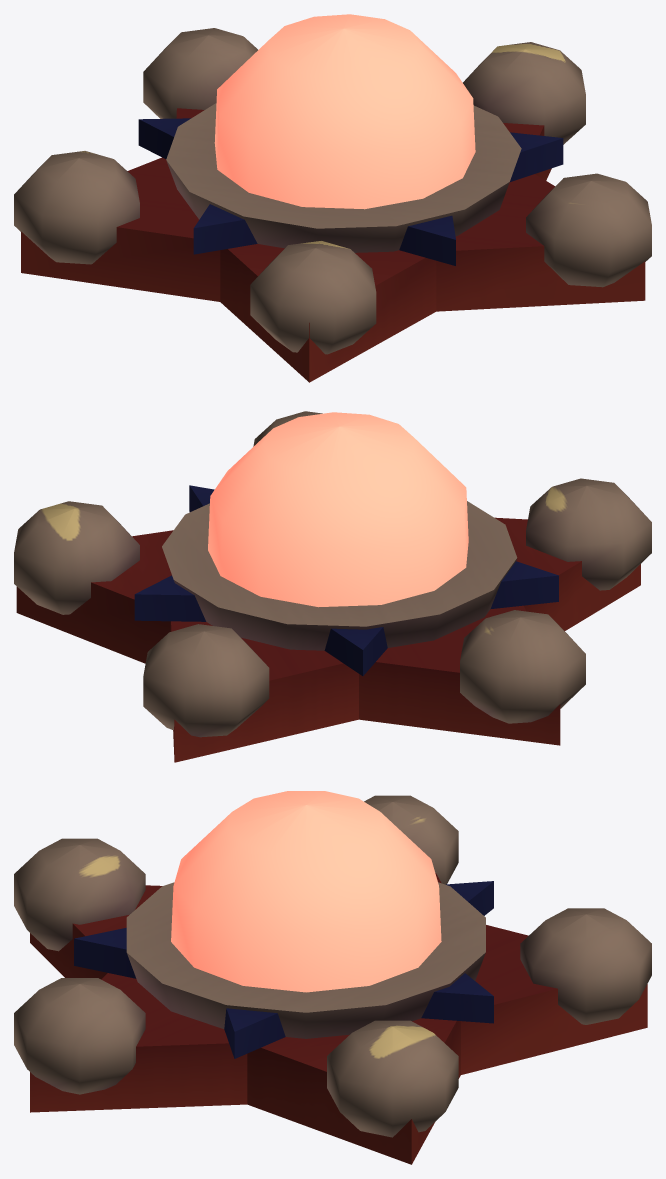
Rendered from R4D_ExplosiveTrap_LOD1.glb.
The picture shows the model from 3 angles, top to bottom: view 1: azimuth 30°, elevation 25°; view 2: azimuth 150°, elevation 25°; view 3: azimuth 270°, elevation 25°; orthographic projection. The views are drawn at different scales.
Parts seen in each view (by area): view 1: R4D_ExplosiveTrap_LOD1; view 2: R4D_ExplosiveTrap_LOD1; view 3: R4D_ExplosiveTrap_LOD1.
Boxes of the visible parts, <box> form: R4D_ExplosiveTrap_LOD1: <box>14,14,651,382</box>; R4D_ExplosiveTrap_LOD1: <box>14,411,651,762</box>; R4D_ExplosiveTrap_LOD1: <box>14,791,651,1164</box>.
Bounding box in the file's own units: 0.4839 × 0.18 × 0.4673.
4 materials, 3 textured.
